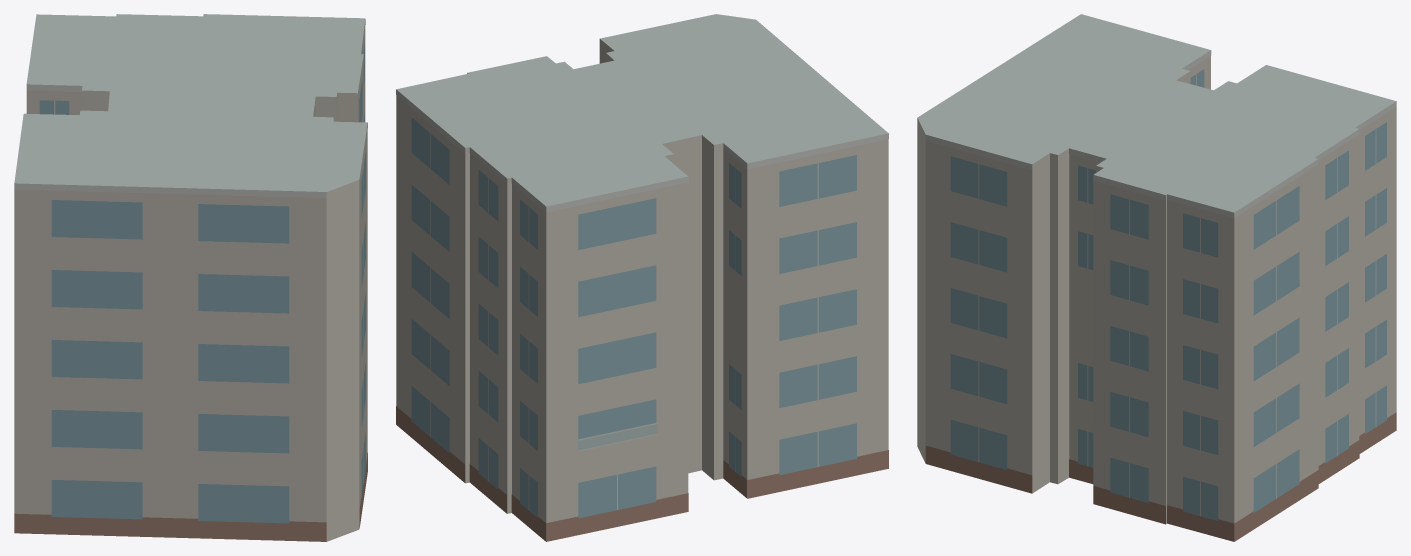
File: survey-upis-32720799.glb
3 views of the same model, side by side, from view 1: azimuth 30°, elevation 25°; view 2: azimuth 150°, elevation 25°; view 3: azimuth 270°, elevation 25° (orthographic). The views are drawn at different scales.
Parts seen in each view (by area): view 1: survey-upis-32720799.tmp; view 2: survey-upis-32720799.tmp; view 3: survey-upis-32720799.tmp.
Boxes of the visible parts, x1,y1,x2,y2 form: survey-upis-32720799.tmp: (14, 14, 367, 541); survey-upis-32720799.tmp: (396, 14, 888, 541); survey-upis-32720799.tmp: (917, 14, 1396, 541).
Bounding box in the file's own units: 18.25 × 14.1 × 18.61.
